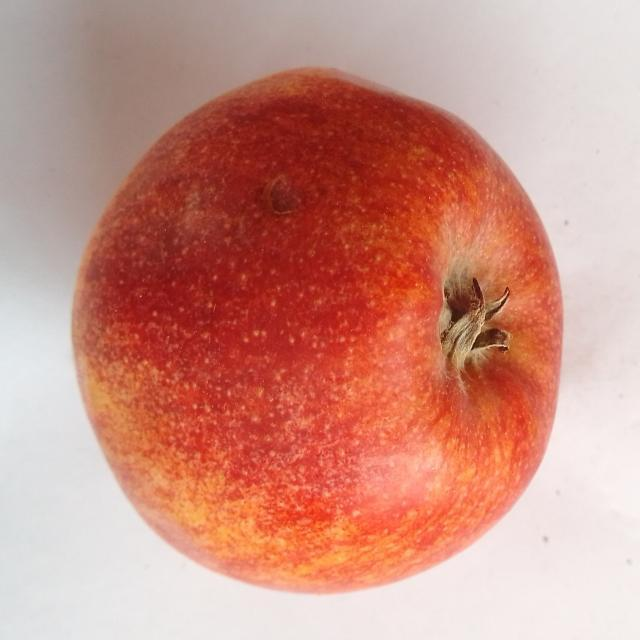Fresh Apple: (65, 63, 577, 602)
